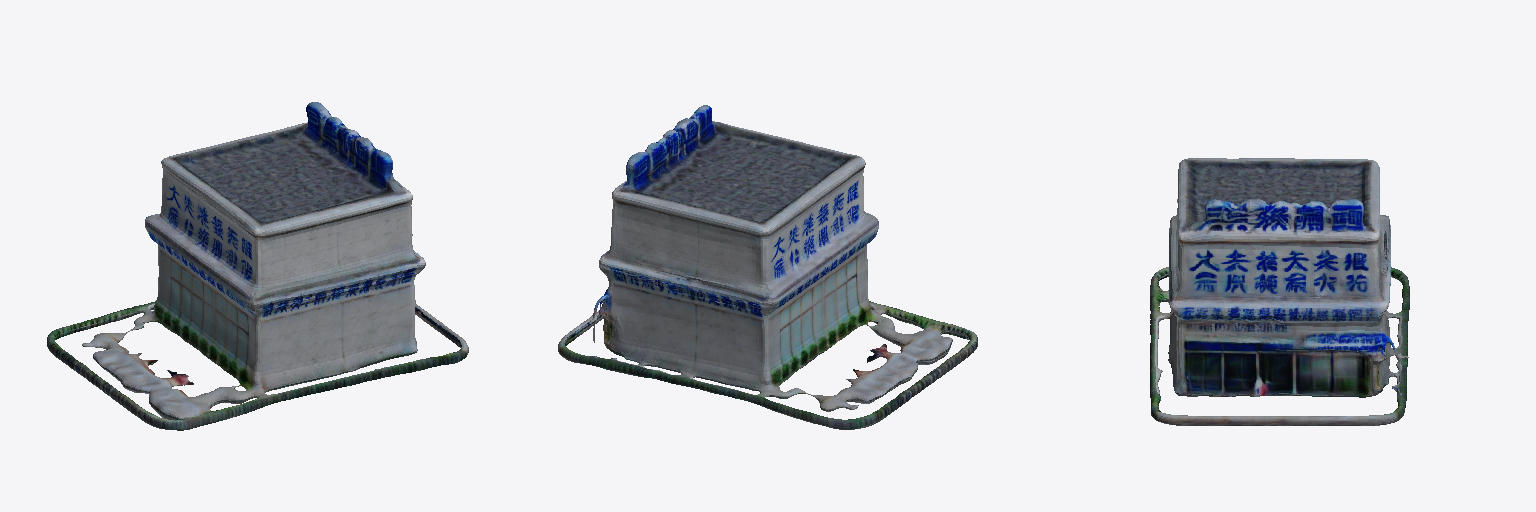
3 views of the same model, side by side, from view 1: azimuth 30°, elevation 25°; view 2: azimuth 150°, elevation 25°; view 3: azimuth 270°, elevation 25° (orthographic).
Parts seen in each view (by area): view 1: mesh; view 2: mesh; view 3: mesh.
Part boxes in pixels (x1,y1,x2,y2): mesh: (47,102,468,430); mesh: (558,105,977,429); mesh: (1150,158,1409,425).
Bounding box in the file's own units: 0.9991 × 0.6181 × 0.7049.
Materials: 1 (1 with a texture image).